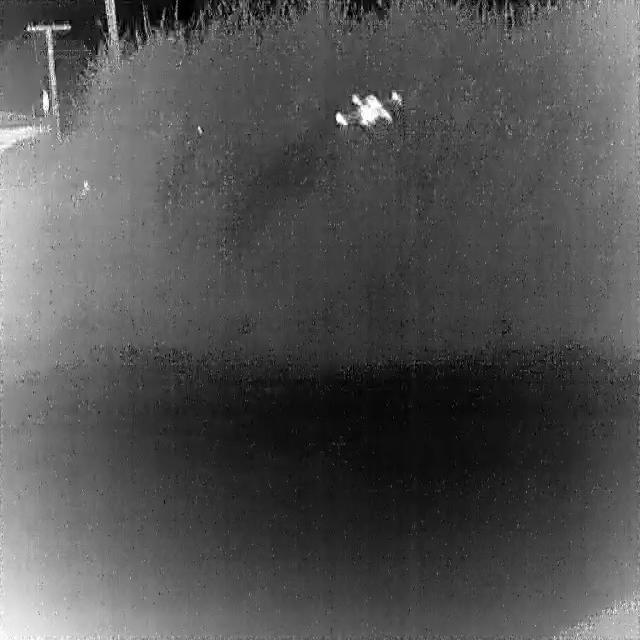drone: (332, 90, 407, 128)
